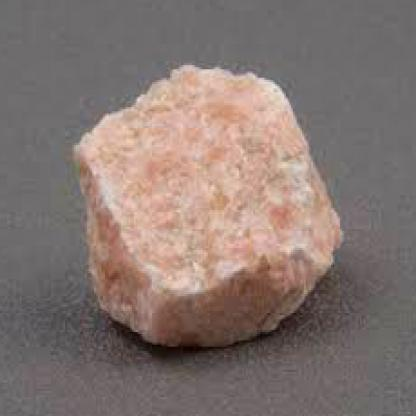Metamorphic_Marble: (67, 54, 342, 350)
